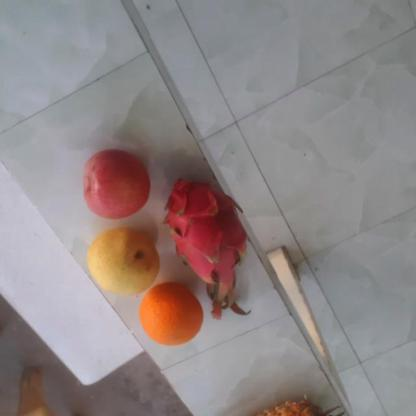apple: (80, 149, 155, 220)
orange: (136, 284, 205, 346)
pear: (83, 228, 161, 297)
pitaya: (160, 177, 246, 295)
